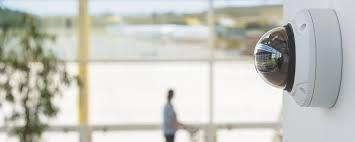maru: (250, 5, 349, 115)
